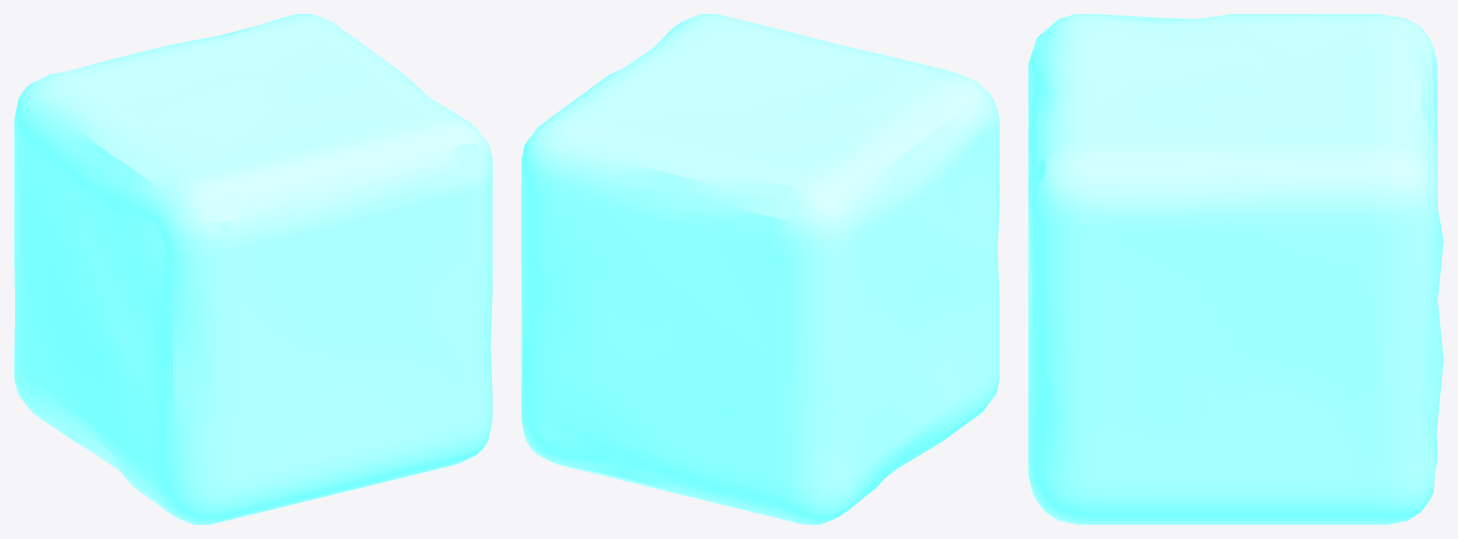
The model's file is iceCube.fbx.
3 renders of one model, left to right at view 1: azimuth 30°, elevation 25°; view 2: azimuth 150°, elevation 25°; view 3: azimuth 270°, elevation 25°, orthographic. The views are drawn at different scales.
Parts seen in each view (by area): view 1: Cube; view 2: Cube; view 3: Cube.
Part boxes in pixels (x1=…): Cube: x1=14, y1=14, x2=492, y2=524; Cube: x1=521, y1=14, x2=999, y2=524; Cube: x1=1028, y1=14, x2=1443, y2=524.
Bounding box in the file's own units: 200 × 200 × 203.
